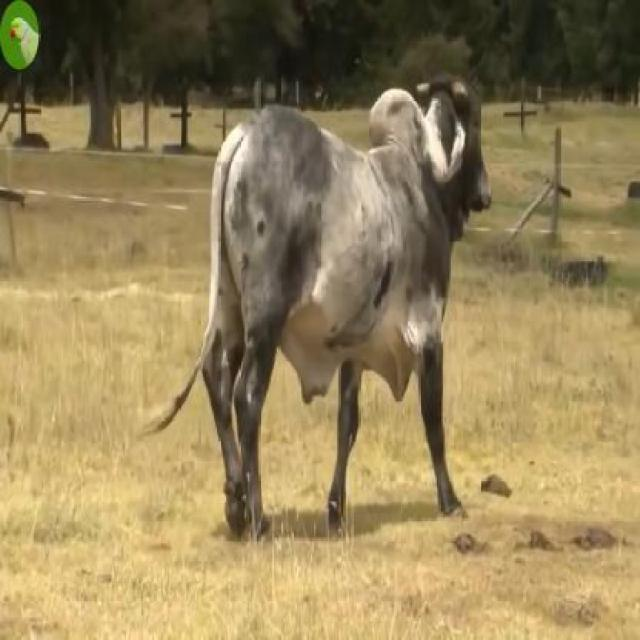Cow: (202, 77, 492, 538)
